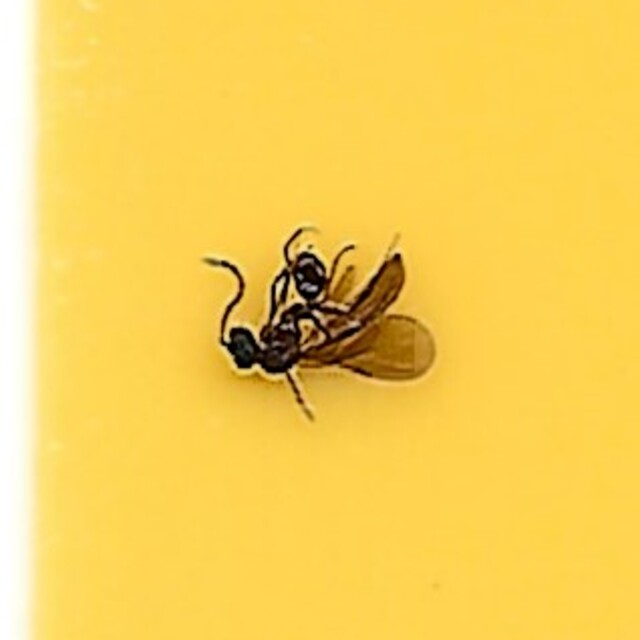Hymenoptera: (201, 225, 439, 415)
